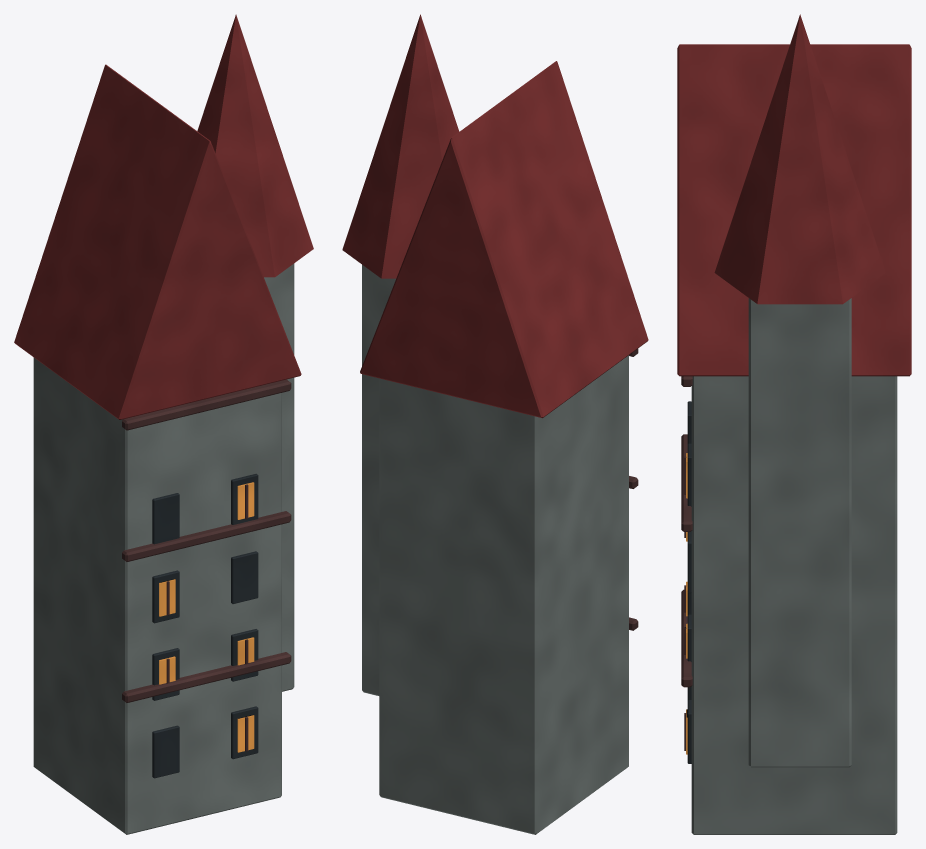
Rendered from turret_house.glb.
3 views of the same model, side by side, from view 1: azimuth 30°, elevation 25°; view 2: azimuth 150°, elevation 25°; view 3: azimuth 270°, elevation 25° (orthographic). The views are drawn at different scales.
Visible parts, largest first — view 1: turret_house; view 2: turret_house; view 3: turret_house.
Part boxes in pixels (<box>): turret_house: <box>14,14,313,834</box>; turret_house: <box>342,14,648,834</box>; turret_house: <box>677,14,911,834</box>.
Bounding box in the file's own units: 5.14 × 15.9 × 4.1.
5 materials, 5 textured.
